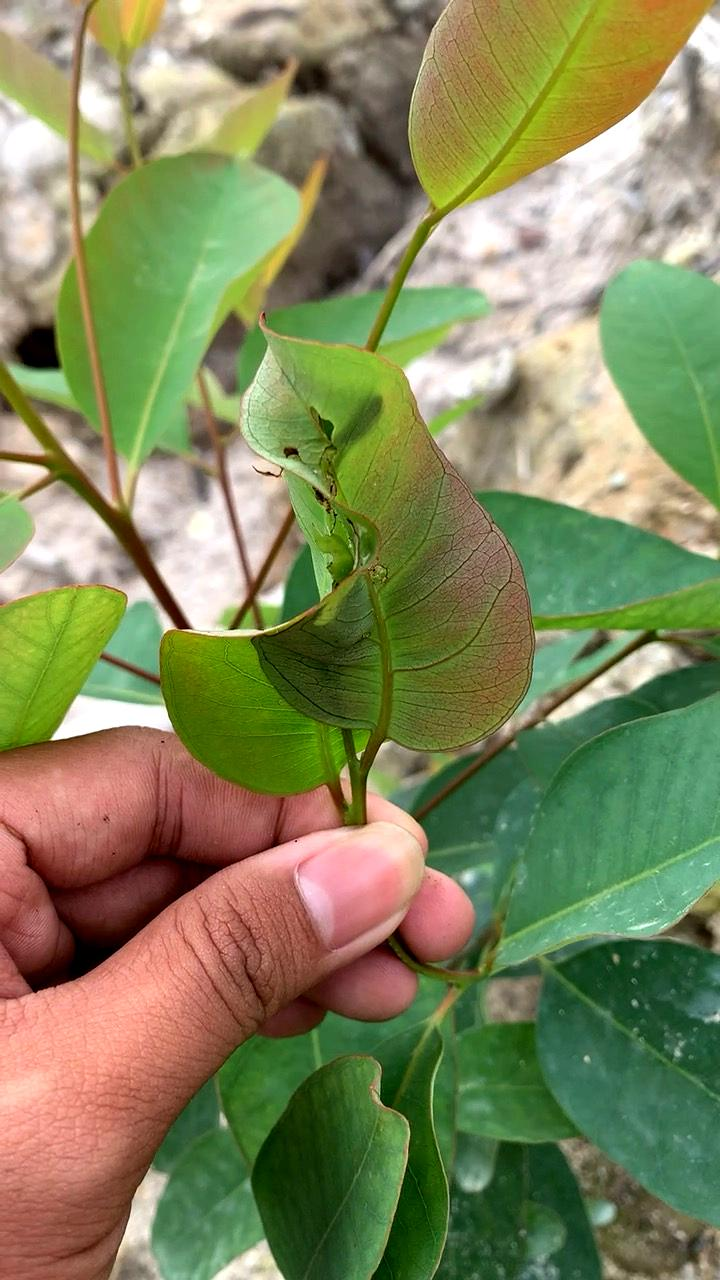Leaf Roller - Leaf: (147, 310, 556, 844)
